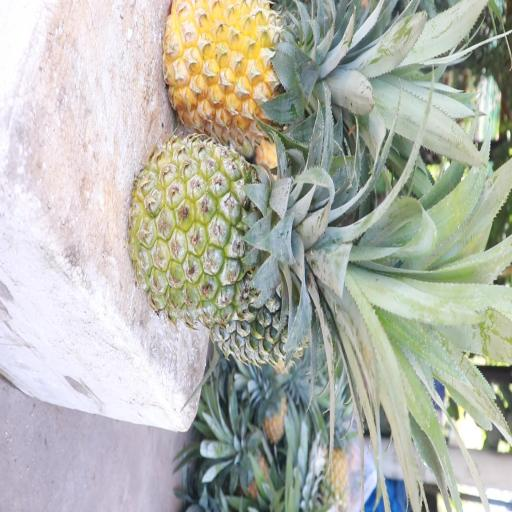------------------------------: (136, 138, 320, 320)
Pineapple - v8 v1: (163, 0, 321, 134)
